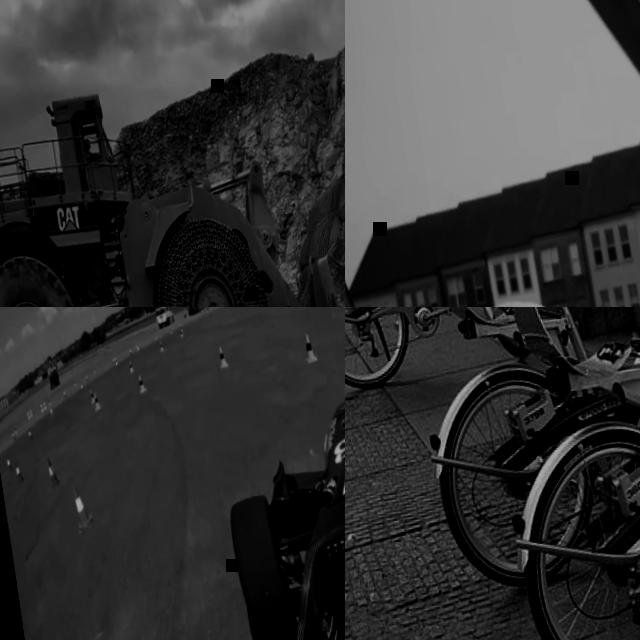Person: (84, 136, 100, 157)
Safety Cone: (70, 479, 97, 536), (302, 332, 320, 366), (45, 454, 60, 490), (213, 346, 228, 369), (134, 374, 147, 397), (13, 459, 23, 484), (91, 393, 101, 413), (5, 452, 13, 474), (88, 386, 96, 406), (158, 339, 166, 356), (26, 428, 34, 445), (129, 360, 136, 377), (24, 408, 31, 425), (29, 407, 35, 425), (177, 326, 185, 339), (40, 403, 45, 421), (43, 399, 48, 417), (48, 407, 54, 422), (169, 325, 173, 335)
vehicle: (0, 43, 345, 307), (182, 362, 345, 640), (154, 307, 176, 328)
